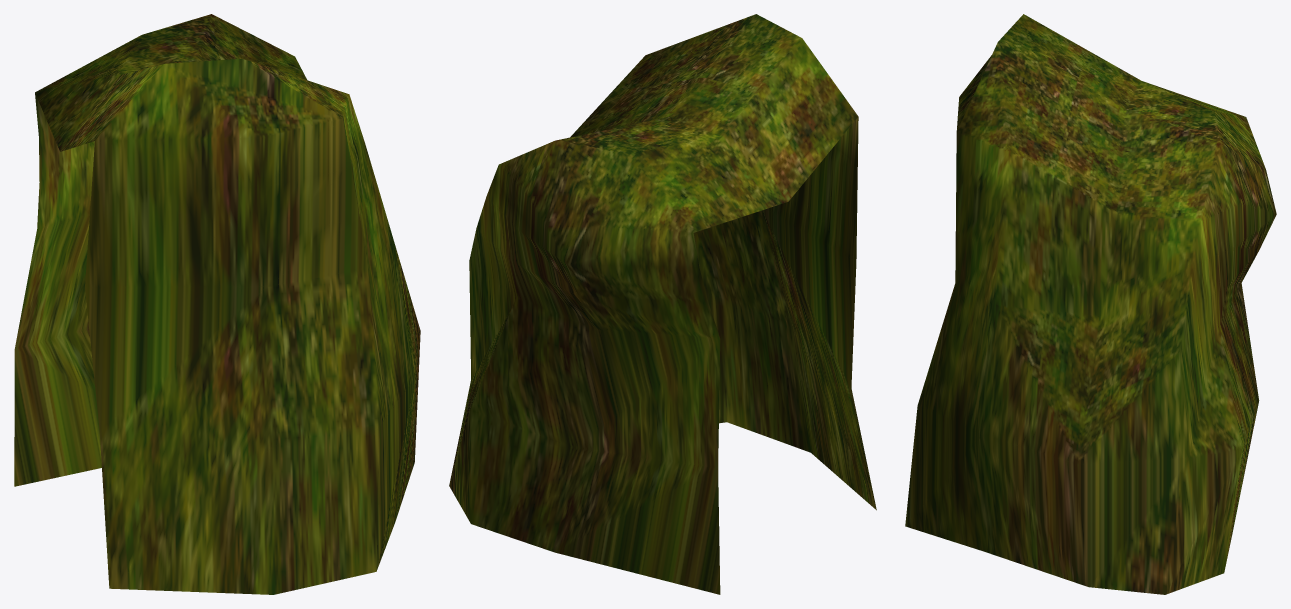
Rendered from TROLLHOLE02_BOX324.fbx.
3 views of the same model, side by side, from view 1: azimuth 30°, elevation 25°; view 2: azimuth 150°, elevation 25°; view 3: azimuth 270°, elevation 25° (orthographic). The views are drawn at different scales.
Parts seen in each view (by area): view 1: TROLLHOLE02_BOX324; view 2: TROLLHOLE02_BOX324; view 3: TROLLHOLE02_BOX324.
Part boxes in pixels (x1,y1,x2,y2): TROLLHOLE02_BOX324: (14,14,420,594); TROLLHOLE02_BOX324: (449,14,876,594); TROLLHOLE02_BOX324: (905,14,1276,594).
Bounding box in the file's own units: 53153 × 69295 × 51235.
Materials: 1 (1 with a texture image).
